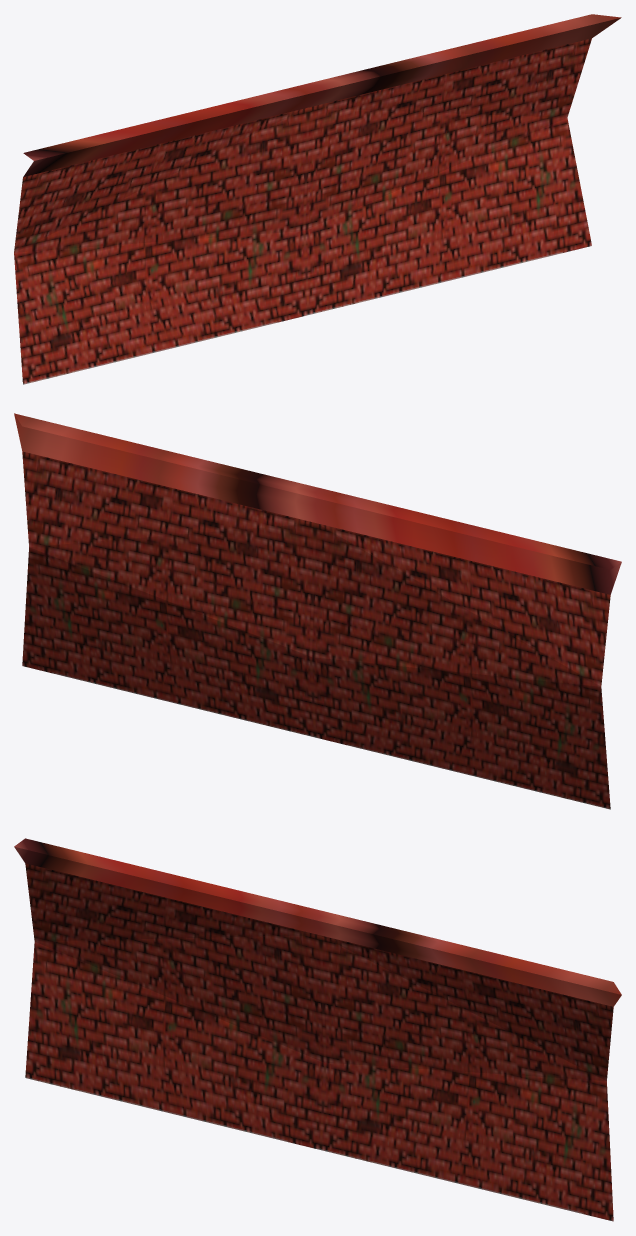
Rendered from W_A2r_xxxx [Ziegel3]_2367.glb.
3 views of the same model, one above another, from view 1: azimuth 30°, elevation 25°; view 2: azimuth 150°, elevation 25°; view 3: azimuth 330°, elevation 25° (orthographic). The views are drawn at different scales.
Visible parts, largest first — view 1: polySurfaceShape787, polySurfaceShape1065; view 2: polySurfaceShape787, polySurfaceShape1065; view 3: polySurfaceShape787, polySurfaceShape1065.
Boxes of the visible parts, bbox=[...] form: polySurfaceShape787: bbox=[14, 38, 591, 384]; polySurfaceShape1065: bbox=[23, 14, 621, 176]; polySurfaceShape787: bbox=[22, 451, 610, 809]; polySurfaceShape1065: bbox=[14, 413, 621, 594]; polySurfaceShape787: bbox=[25, 863, 613, 1221]; polySurfaceShape1065: bbox=[14, 838, 621, 1006].
Bounding box in the file's own units: 1.03 × 0.3891 × 0.0607.
2 materials, 2 textured.
